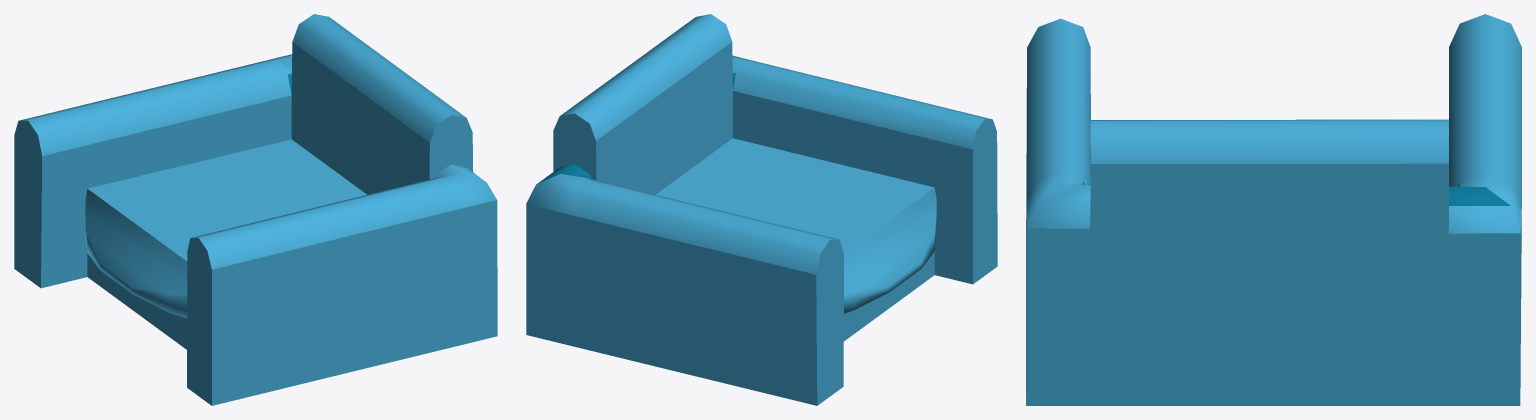
File: SillonSala.fbx
3 views of the same model, side by side, from view 1: azimuth 30°, elevation 25°; view 2: azimuth 150°, elevation 25°; view 3: azimuth 270°, elevation 25° (orthographic). The views are drawn at different scales.
Visible parts, largest first — view 1: Cube.001; view 2: Cube.001; view 3: Cube.001.
Boxes of the visible parts, bbox=[...] form: Cube.001: bbox=[14, 14, 497, 405]; Cube.001: bbox=[526, 14, 997, 405]; Cube.001: bbox=[1026, 14, 1521, 405].
Bounding box in the file's own units: 0.7579 × 0.5144 × 0.8507.
